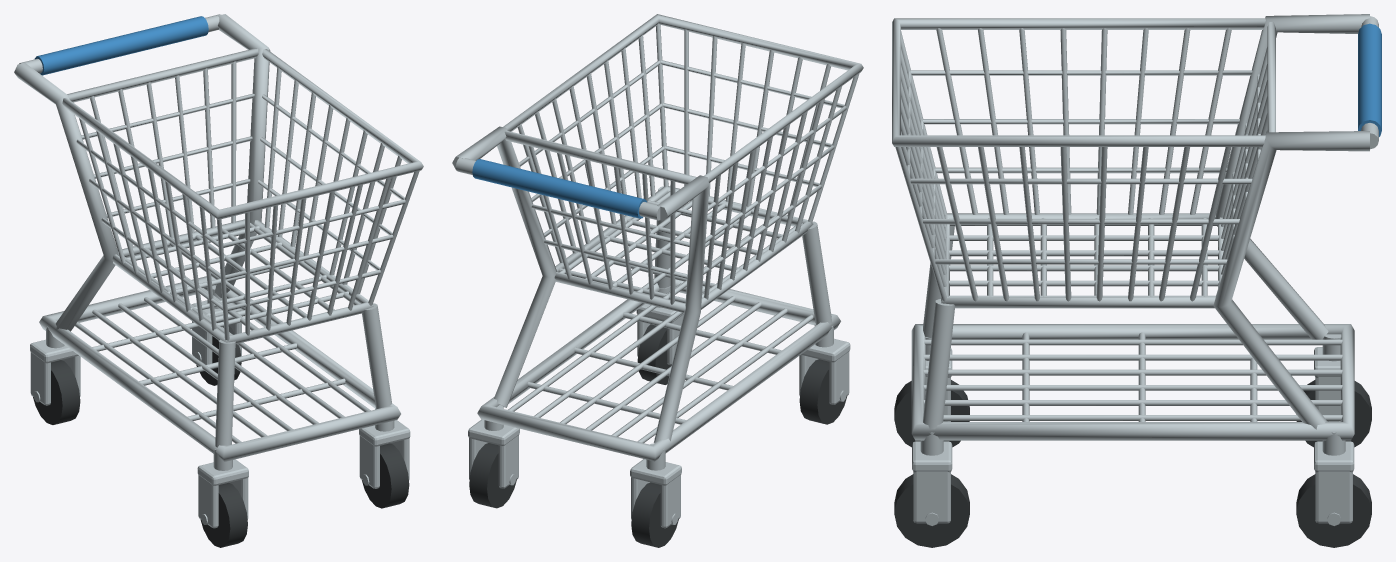
File: shopping_cart.glb
The picture shows the model from 3 angles, left to right: view 1: azimuth 30°, elevation 25°; view 2: azimuth 150°, elevation 25°; view 3: azimuth 270°, elevation 25°; orthographic projection. The views are drawn at different scales.
Visible parts, largest first — view 1: Cart lower perimeter frame, Basket horizontal wire loop.004, Basket rear handle support, Basket horizontal wire loop, Basket rear handle support.001, Cart blue handle grip, Basket horizontal wire loop.003, Basket horizontal wire loop.002, Basket horizontal wire loop.001, Cart caster wheel, Cart caster wheel.001, Cart caster wheel.002 (+51 smaller); view 2: Cart lower perimeter frame, Basket horizontal wire loop.004, Basket rear handle support, Basket rear handle support.001, Basket horizontal wire loop, Cart blue handle grip, Basket horizontal wire loop.002, Basket horizontal wire loop.003, Basket horizontal wire loop.001, Cart caster wheel.003, Cart caster wheel.001, Cart caster wheel (+46 smaller); view 3: Cart lower perimeter frame, Basket horizontal wire loop.004, Basket rear handle support.001, Basket rear handle support, Basket horizontal wire loop, Basket horizontal wire loop.003, Basket horizontal wire loop.002, Basket horizontal wire loop.001, Cart caster wheel.002, Cart caster wheel.003, Lower rack longitudinal wire, Lower rack longitudinal wire.001 (+44 smaller).
Boxes of the visible parts, <box> form: Cart lower perimeter frame: <box>39,276,400,461</box>; Basket horizontal wire loop.004: <box>62,48,423,219</box>; Basket rear handle support: <box>14,62,118,331</box>; Basket horizontal wire loop: <box>112,219,373,343</box>; Basket rear handle support.001: <box>214,14,270,297</box>; Cart blue handle grip: <box>34,16,208,75</box>; Basket horizontal wire loop.003: <box>76,93,405,247</box>; Basket horizontal wire loop.002: <box>89,136,393,279</box>; Basket horizontal wire loop.001: <box>101,179,380,311</box>; Cart caster wheel: <box>200,482,247,547</box>; Cart caster wheel.001: <box>33,360,80,424</box>; Cart caster wheel.002: <box>362,443,409,508</box>; Cart lower perimeter frame: <box>477,279,840,461</box>; Basket horizontal wire loop.004: <box>503,14,863,184</box>; Basket rear handle support: <box>653,175,709,443</box>; Basket rear handle support.001: <box>452,126,556,407</box>; Basket horizontal wire loop: <box>554,186,813,312</box>; Cart blue handle grip: <box>472,159,646,218</box>; Basket horizontal wire loop.002: <box>531,103,834,246</box>; Basket horizontal wire loop.003: <box>519,60,846,215</box>; Basket horizontal wire loop.001: <box>543,146,821,278</box>; Cart caster wheel.003: <box>469,443,516,508</box>; Cart caster wheel.001: <box>631,482,678,547</box>; Cart caster wheel: <box>799,359,847,424</box>; Cart lower perimeter frame: <box>911,324,1354,440</box>; Basket horizontal wire loop.004: <box>892,18,1275,146</box>; Basket rear handle support.001: <box>1213,131,1369,429</box>; Basket rear handle support: <box>1215,14,1369,339</box>; Basket horizontal wire loop: <box>941,213,1223,308</box>; Basket horizontal wire loop.003: <box>907,70,1260,184</box>; Basket horizontal wire loop.002: <box>919,119,1248,224</box>; Basket horizontal wire loop.001: <box>932,167,1235,264</box>; Cart caster wheel.002: <box>894,474,969,547</box>; Cart caster wheel.003: <box>1296,474,1371,547</box>; Lower rack longitudinal wire: <box>923,339,1342,345</box>; Lower rack longitudinal wire.001: <box>923,354,1342,360</box>.
Size of the model in its own units: 0.666 by 1.05 by 1.1.
